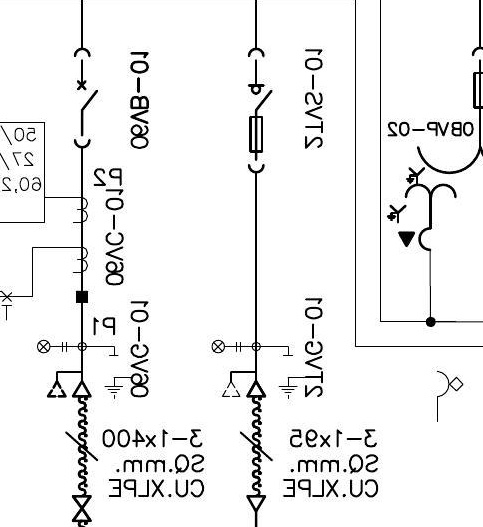22_breaker: (72, 47, 100, 150)
22_ds: (246, 47, 274, 175)
22_gs: (104, 354, 132, 400), (279, 354, 306, 400)
22_ll: (36, 339, 68, 354), (211, 339, 242, 354)
terminator_single: (244, 494, 267, 513)
terminator_splicing_kits: (71, 495, 93, 523)
terminator_w_future: (220, 369, 267, 398), (46, 370, 93, 399)
